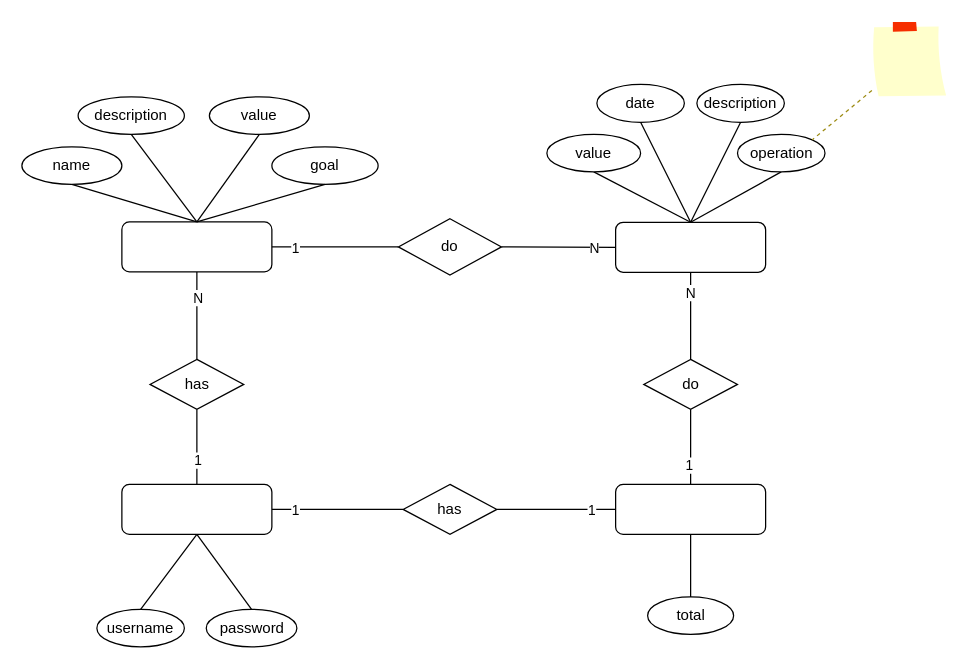
This 969x669 diagram has some shape labels left out. Here are the shapes that lost their labels. From the top down, the centre of each, then its label:
point (909, 59): DEPOSIT WITHDRAW
point (196, 246): Box
point (690, 246): Transaction
point (196, 508): User
point (690, 508): Balance
